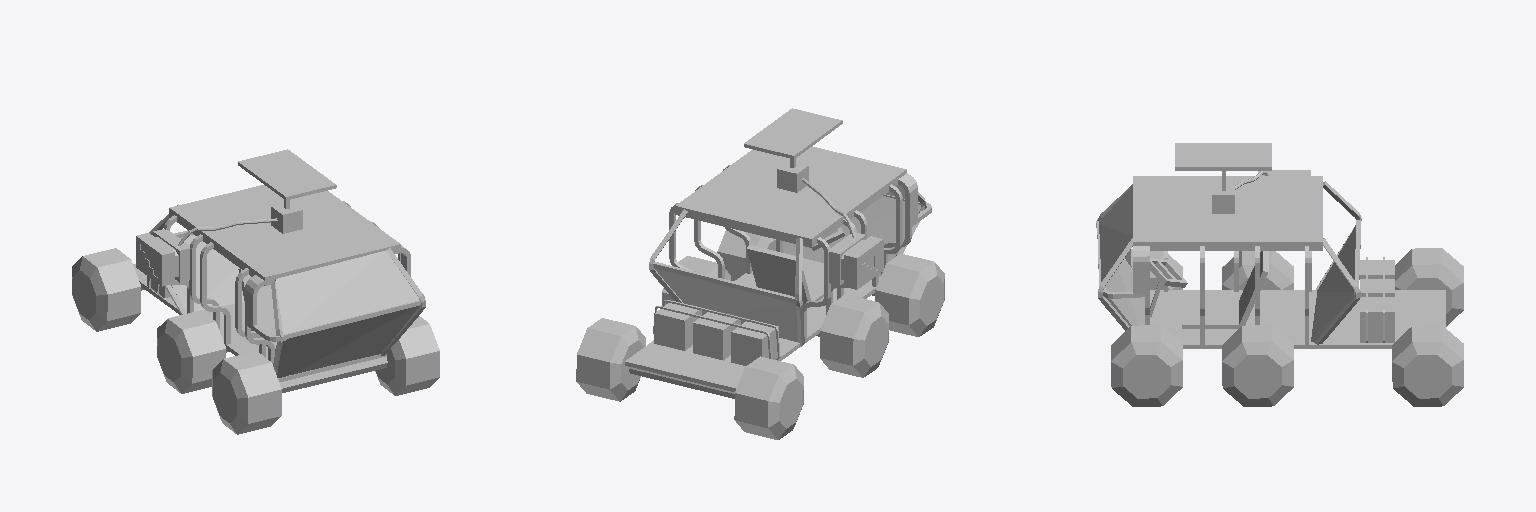
Rendered from MarsRover.obj.
The picture shows the model from 3 angles: view 1: azimuth 30°, elevation 25°; view 2: azimuth 150°, elevation 25°; view 3: azimuth 270°, elevation 25°; orthographic projection.
Parts seen in each view (by area): view 1: RoofRover, GlassFront1, WheelFrontRight, WheelBackRight, GlassFront002, WheelMiddleRight, WheelFrontLeft, SolarPanel, Battery, GlassBack003, FloorRover, AxisFront (+4 smaller); view 2: RoofRover, FloorRover, WheelBackRight, WheelMiddleRight, WheelFrontRight, WheelBackLeft, GlassBack003, SolarPanel, Battery, GlassFront002, Seat001, Container (+9 smaller); view 3: RoofRover, FloorRover, WheelMiddleLeft, WheelFrontLeft, WheelBackLeft, WheelBackRight, SolarPanel, GlassBack003, GlassFront1, WheelMiddleRight, Seat, Container (+9 smaller).
Boxes of the visible parts, box(x1,y1,x2,y2) form: RoofRover: box(169, 185, 400, 285); GlassFront1: box(275, 250, 418, 334); WheelFrontRight: box(212, 351, 281, 434); WheelBackRight: box(72, 248, 140, 331); GlassFront002: box(277, 306, 419, 377); WheelMiddleRight: box(157, 310, 225, 393); WheelFrontLeft: box(375, 316, 439, 395); SolarPanel: box(238, 149, 336, 200); Battery: box(136, 229, 190, 286); GlassBack003: box(171, 235, 244, 311); FloorRover: box(133, 264, 386, 381); AxisFront: box(279, 356, 387, 392); RoofRover: box(675, 146, 906, 247); FloorRover: box(625, 258, 880, 391); WheelBackRight: box(734, 356, 803, 439); WheelMiddleRight: box(820, 294, 888, 377); WheelFrontRight: box(875, 254, 944, 336); WheelBackLeft: box(576, 318, 645, 401); GlassBack003: box(654, 268, 797, 341); SolarPanel: box(744, 108, 842, 158); Battery: box(829, 232, 883, 289); GlassFront002: box(783, 196, 920, 276); Seat001: box(747, 245, 810, 307); Container: box(654, 301, 701, 350); RoofRover: box(1133, 176, 1322, 250); FloorRover: box(1150, 290, 1445, 348); WheelMiddleLeft: box(1222, 325, 1293, 406); WheelFrontLeft: box(1111, 325, 1182, 406); WheelBackLeft: box(1392, 325, 1463, 406); WheelBackRight: box(1395, 248, 1463, 326); SolarPanel: box(1175, 143, 1271, 170); GlassBack003: box(1311, 226, 1355, 341); GlassFront1: box(1099, 185, 1132, 281); WheelMiddleRight: box(1222, 251, 1293, 289); Seat: box(1182, 301, 1238, 328); Container: box(1360, 297, 1394, 342).
Bounding box in the file's own units: 5.04 × 4.72 × 7.68.